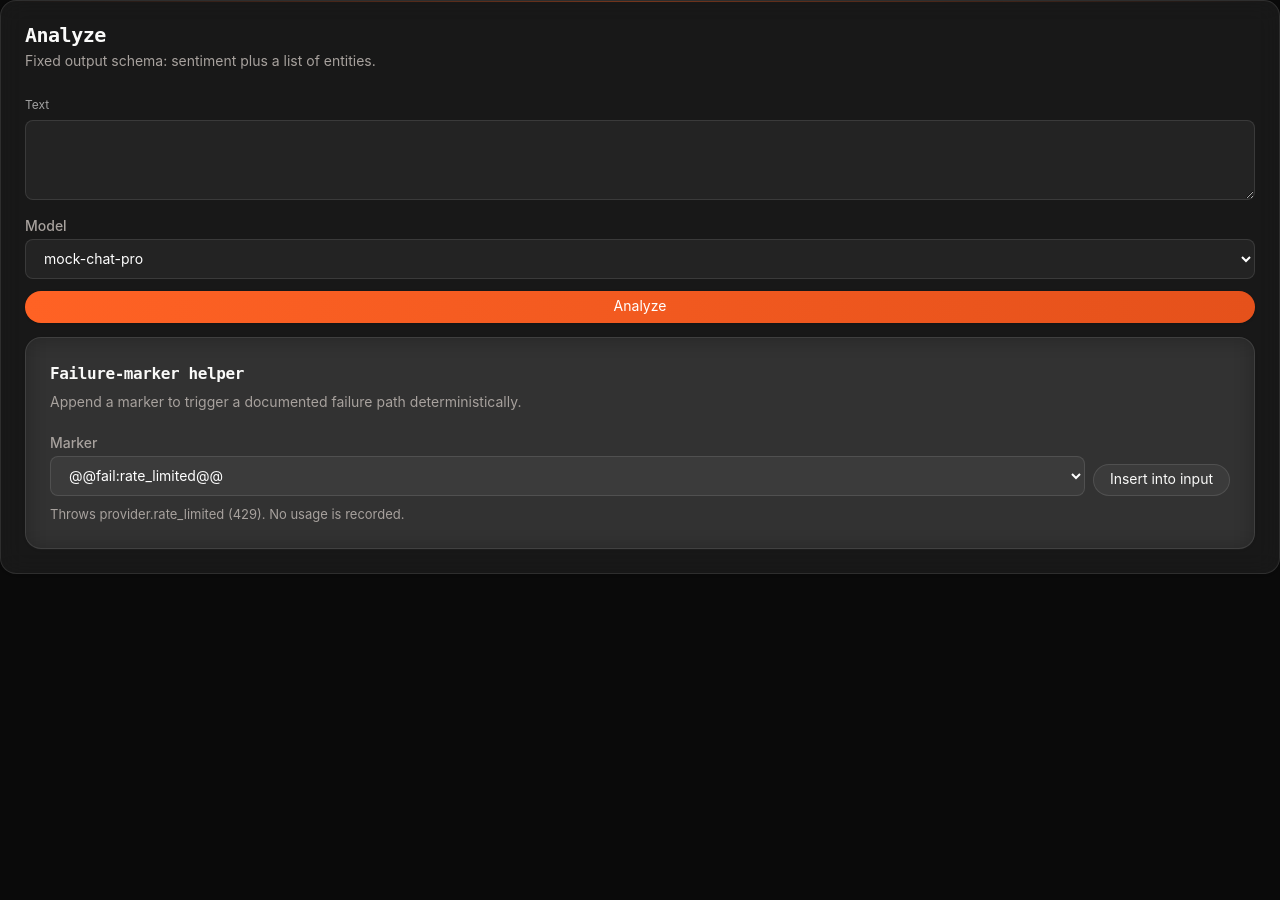
it: AnalyzeCard › renders the error envelope on a rejection
The width and height of the screenshot is (1280, 900).
Type "great product" into the text box labelled "Text". click: (640,160)
box: [25,120,1255,200]
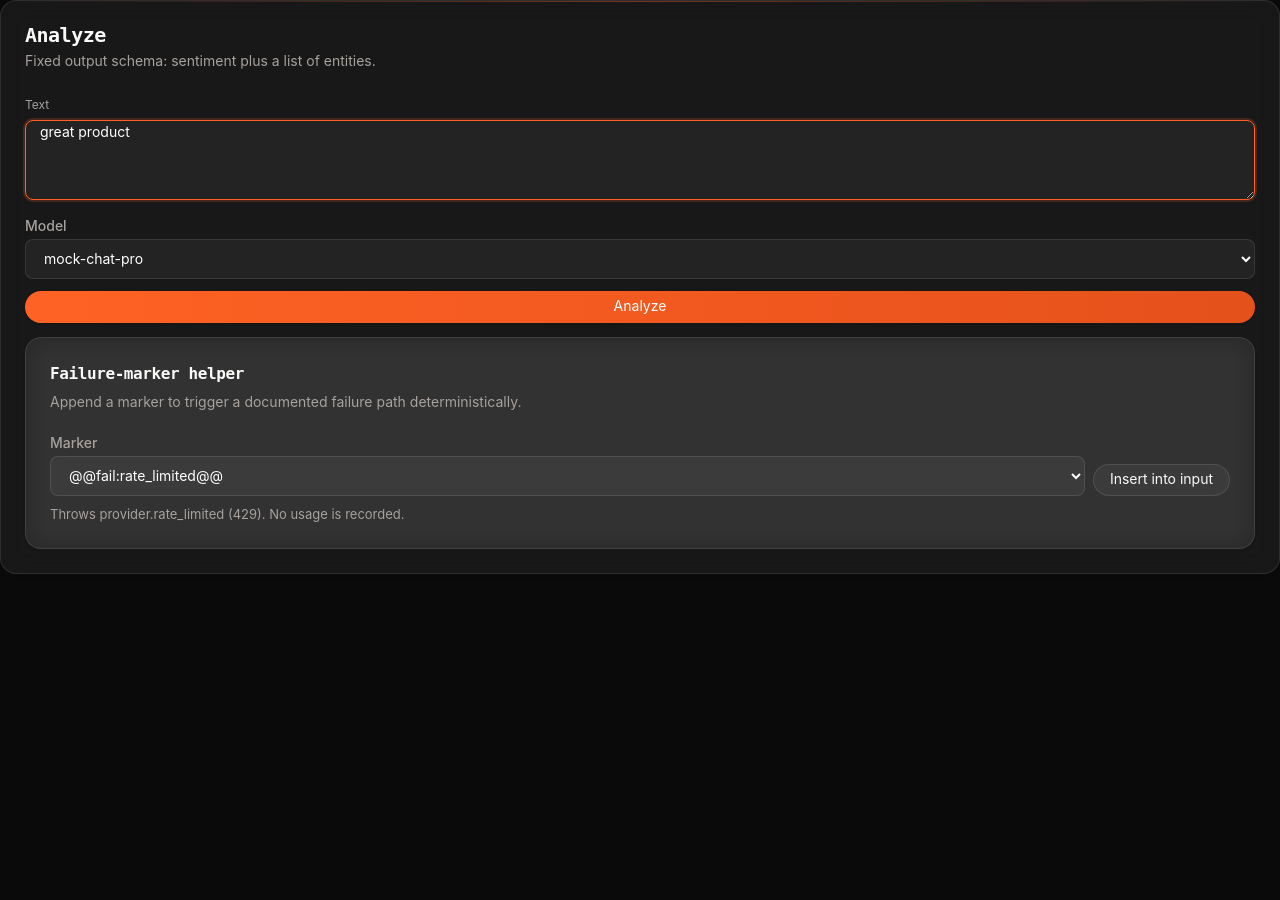
Click the button "Analyze". click: (640,307)
box: [25,291,1255,323]
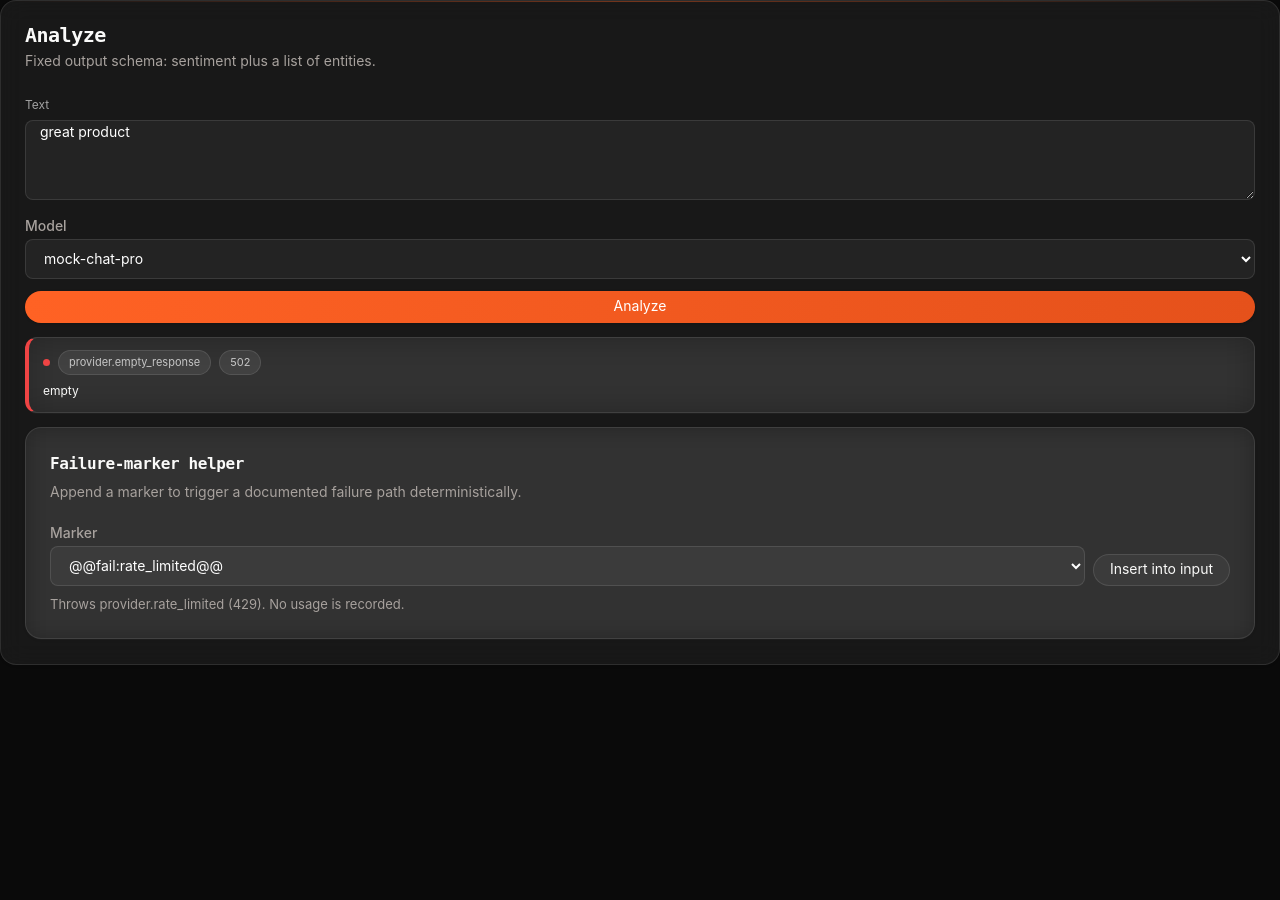
Check: the message shows "empty", box [43,383,79,398]
